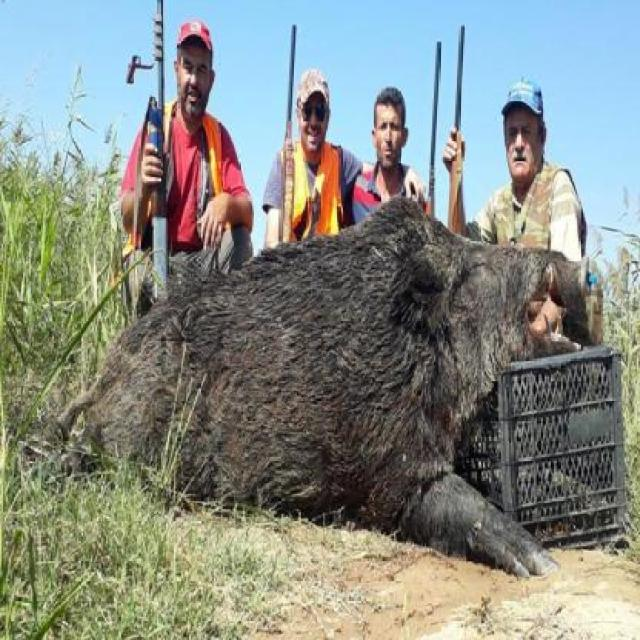wildboar: (54, 194, 588, 583)
